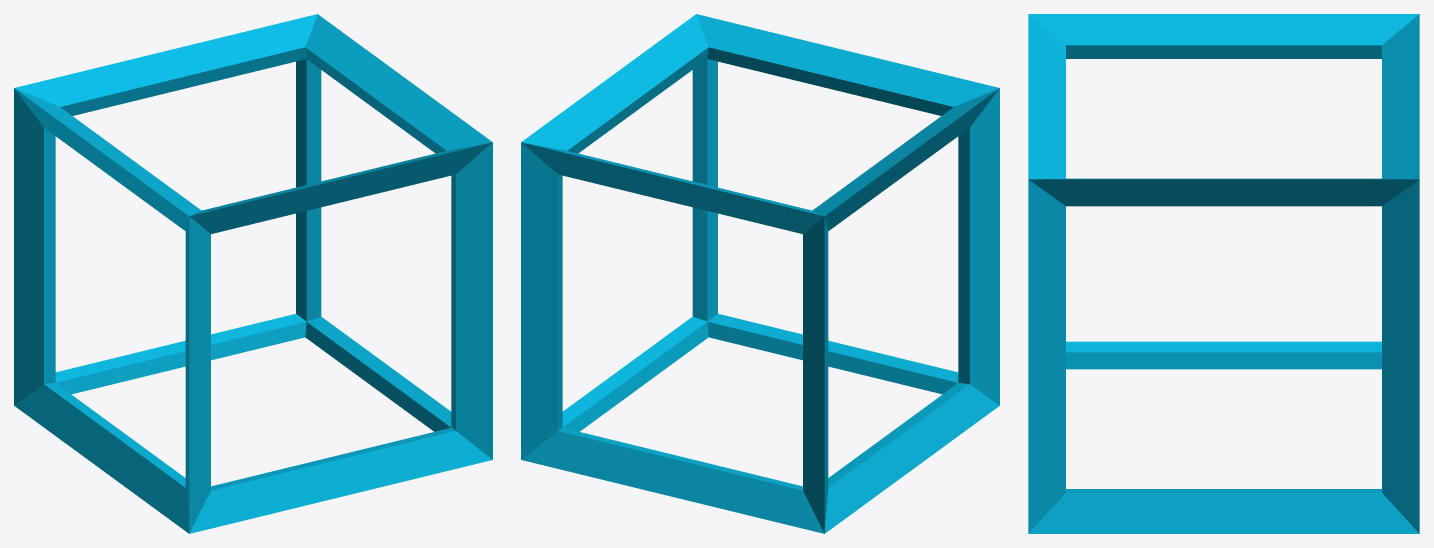
File: UnitCube.fbx
3 renders of one model, left to right at view 1: azimuth 30°, elevation 25°; view 2: azimuth 150°, elevation 25°; view 3: azimuth 270°, elevation 25°, orthographic. The views are drawn at different scales.
Parts seen in each view (by area): view 1: Cube; view 2: Cube; view 3: Cube.
Boxes of the visible parts, bbox=[...] form: Cube: bbox=[14, 14, 492, 533]; Cube: bbox=[521, 14, 999, 533]; Cube: bbox=[1028, 14, 1419, 533].
Size of the model in its own units: 100 by 100 by 100.
